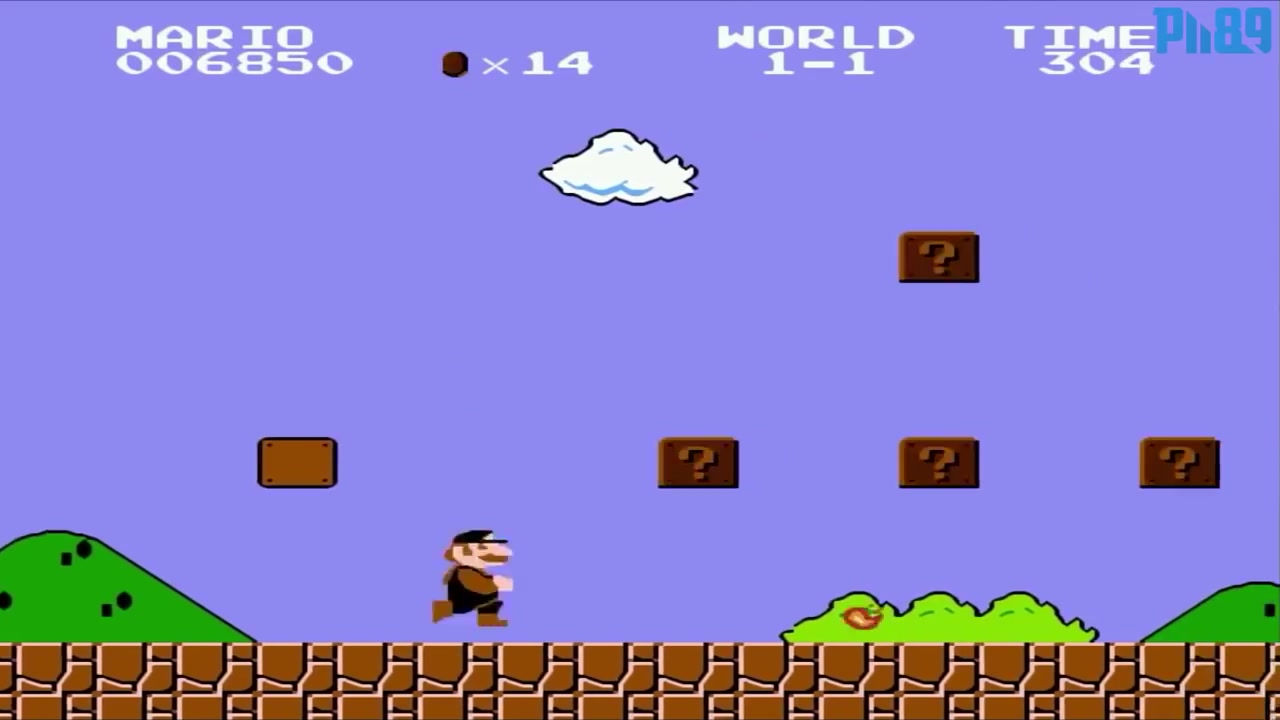mario: (418, 526, 527, 629)
